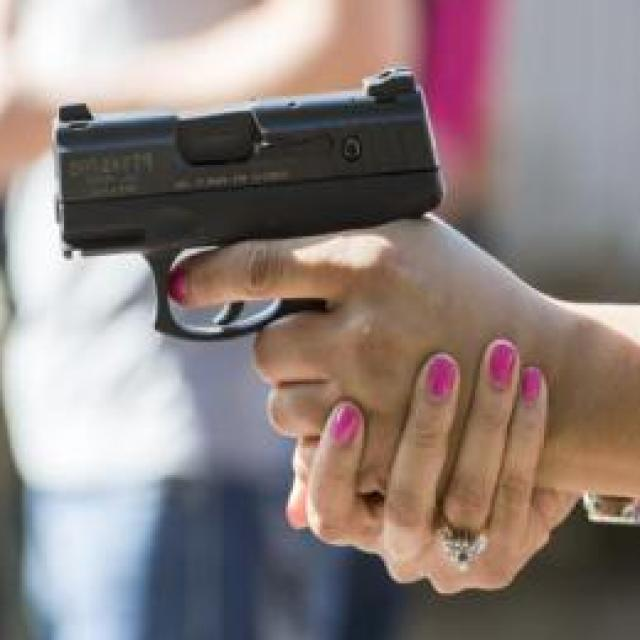pistol: (54, 64, 443, 346)
